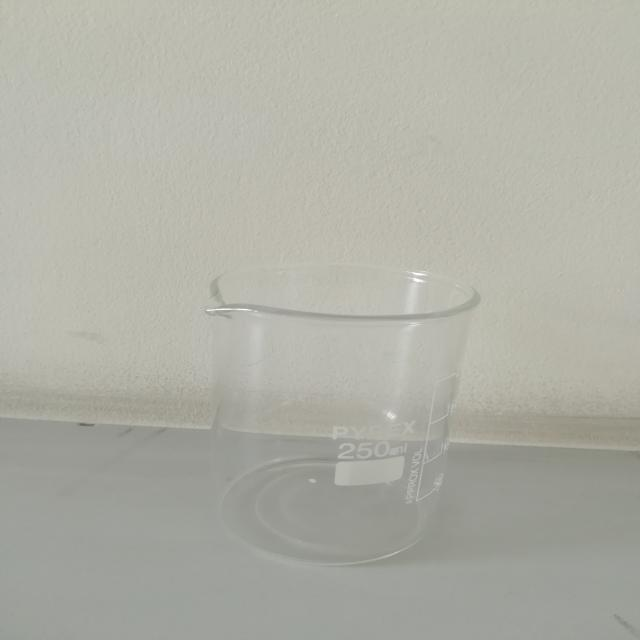Beaker: (168, 216, 501, 595)
